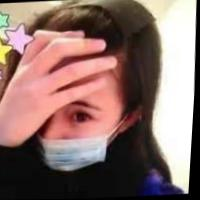WRONG: (31, 73, 127, 176)
